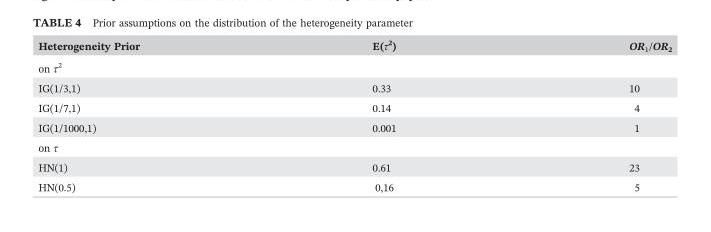table: (37, 37, 671, 192)
table column: (255, 37, 511, 192), (37, 37, 255, 192), (511, 37, 671, 192)
table column header: (37, 37, 671, 56)
table projected row header: (37, 56, 671, 78), (37, 137, 671, 157)
table row: (37, 56, 671, 78), (37, 97, 671, 117), (37, 117, 671, 137), (37, 137, 671, 157), (37, 37, 671, 56), (37, 78, 671, 97), (37, 157, 671, 176), (37, 176, 671, 192)
